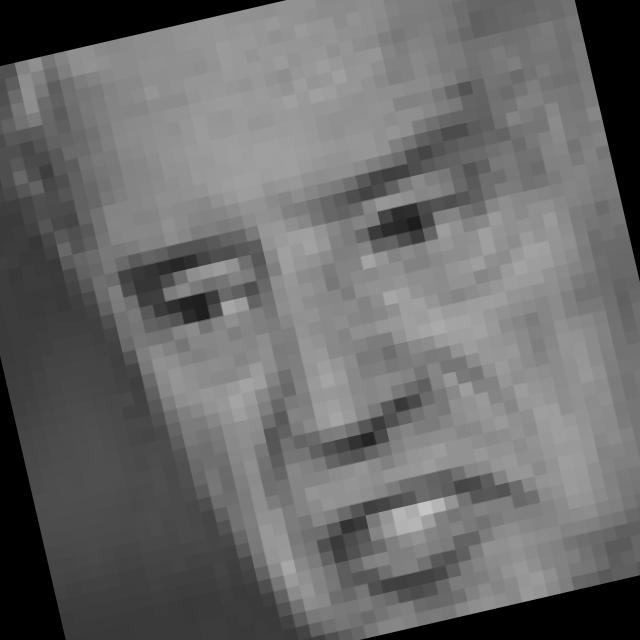disgust: (103, 101, 636, 640)
